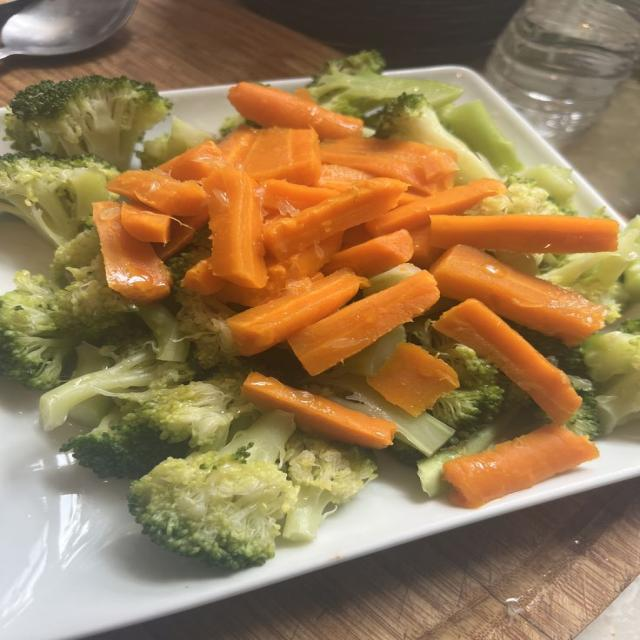broccoli: (128, 412, 298, 568), (5, 76, 171, 170), (40, 338, 193, 429), (412, 321, 510, 446), (317, 374, 454, 456), (375, 93, 498, 183), (118, 368, 253, 449), (0, 154, 118, 245), (540, 216, 639, 322), (307, 51, 462, 117), (283, 432, 376, 541), (514, 326, 602, 439), (0, 271, 78, 390), (60, 408, 189, 478), (55, 254, 138, 341), (440, 100, 522, 176), (583, 331, 639, 433), (175, 288, 237, 369), (0, 331, 76, 390), (466, 175, 575, 215), (432, 385, 504, 443), (137, 117, 213, 168), (137, 303, 190, 362), (52, 226, 100, 287), (583, 331, 639, 382), (167, 226, 212, 286), (519, 164, 576, 206), (566, 379, 603, 439), (620, 319, 639, 335)
carrot: (435, 299, 581, 424), (430, 245, 606, 346), (289, 270, 439, 374), (443, 425, 598, 507), (263, 177, 405, 258), (229, 269, 364, 354), (243, 373, 396, 448), (227, 234, 342, 306), (320, 137, 457, 196), (93, 202, 171, 301), (203, 165, 266, 287), (367, 179, 503, 235), (229, 82, 362, 138), (431, 215, 617, 253), (367, 343, 457, 416), (108, 170, 208, 217), (241, 127, 320, 185), (323, 230, 412, 277), (157, 140, 222, 179), (122, 203, 170, 243), (316, 164, 375, 190), (219, 125, 257, 165), (410, 226, 443, 267)
